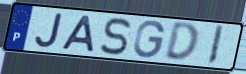A: (60, 14, 97, 54)
D: (162, 22, 200, 64)
G: (132, 20, 167, 60)
I: (205, 24, 226, 67)
J: (33, 11, 65, 50)
S: (98, 17, 133, 57)
